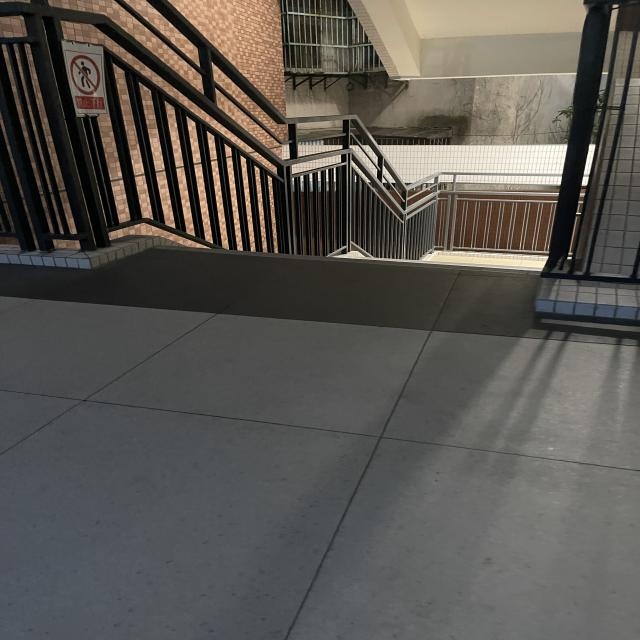Stairs: (143, 189, 592, 321)
